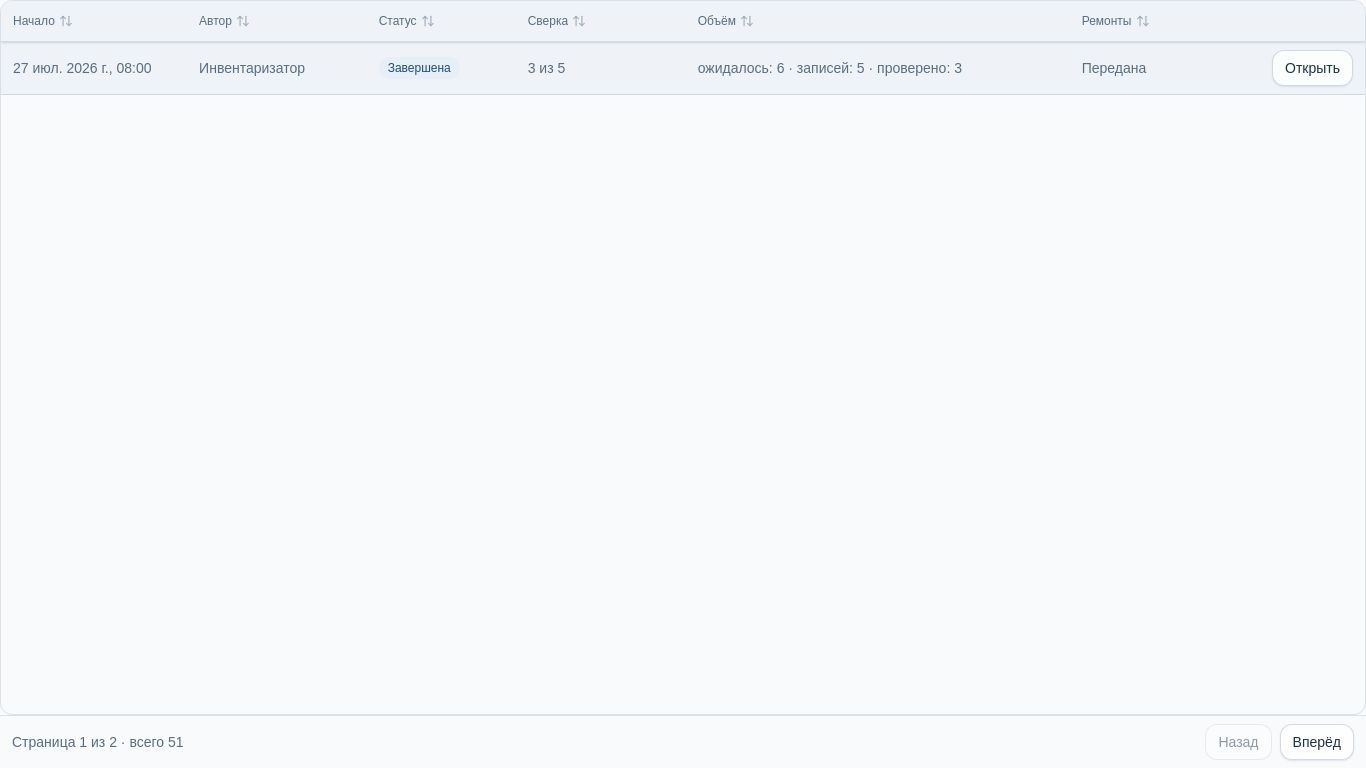
Test: InventoryHistoryPage bounded history › loads one summary page at a time and moves through server pages
Expected: the text "3 из 5" is shown, [516,42,686,95]
Click the button "Вперёд" at (1317, 742), box [1280,724,1354,760]
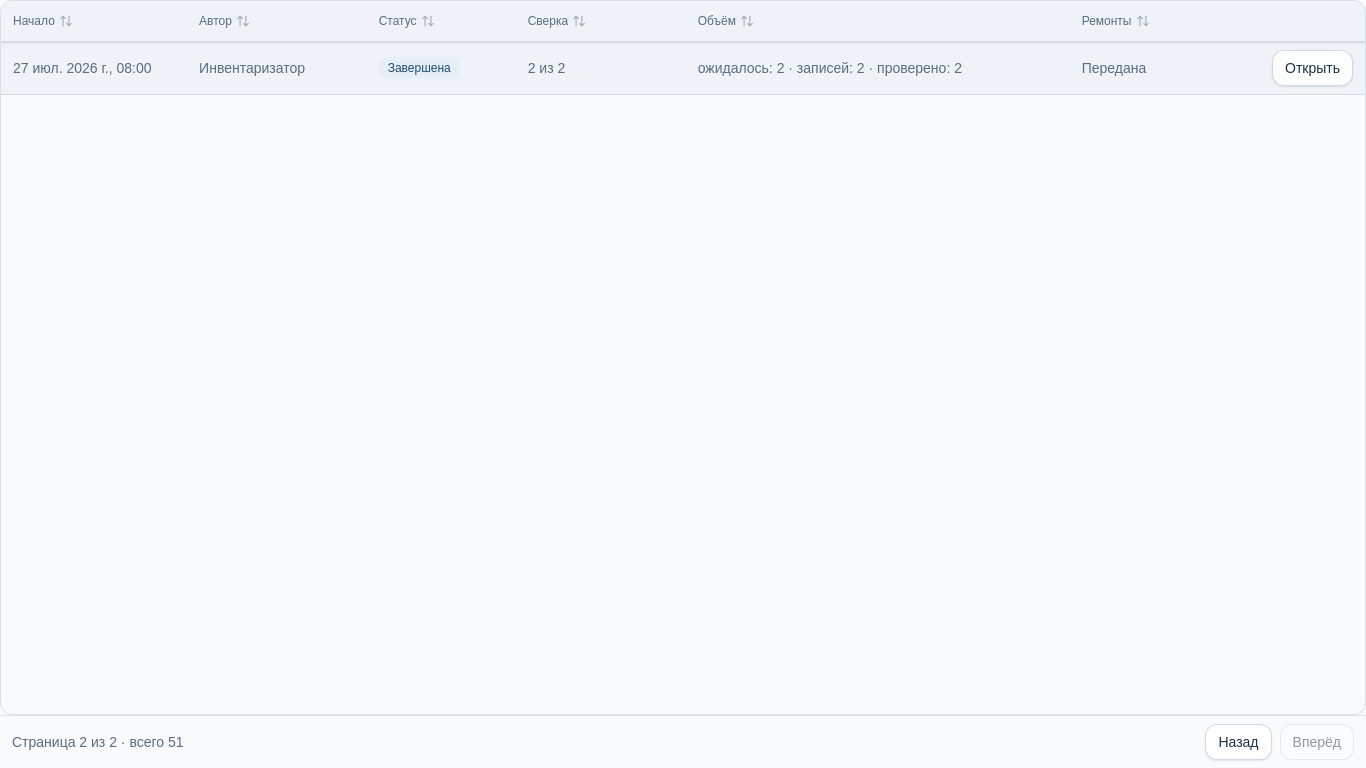
Expected: the text "2 из 2" is shown, [516,42,686,95]
